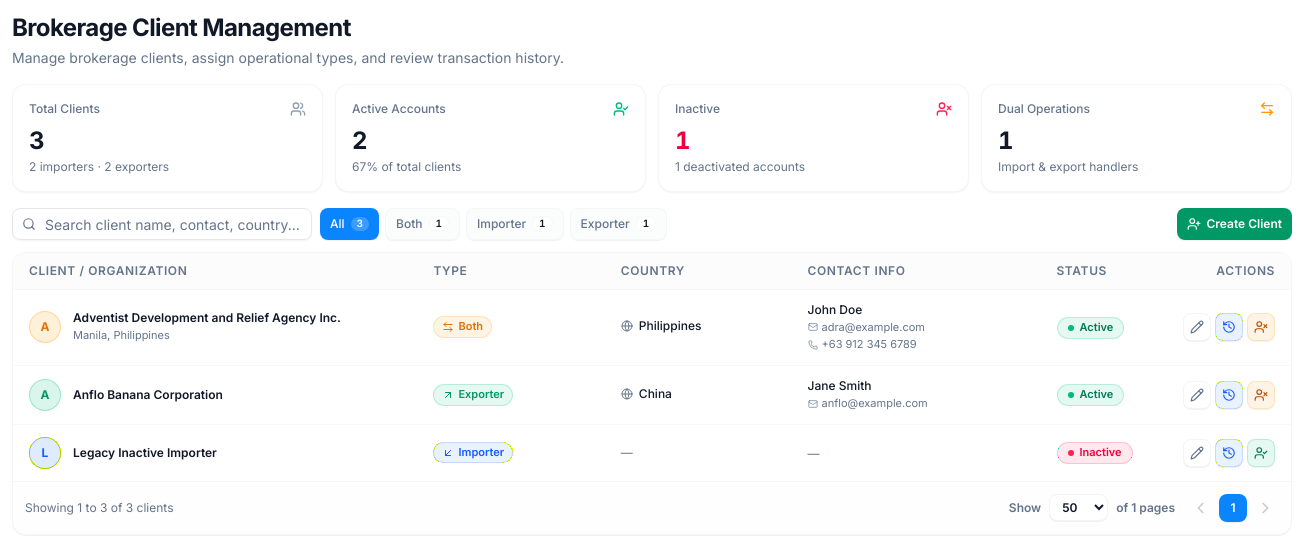
Test: ClientManagement › filters clients by type button
The image size is (1304, 553).
Click the button "Exporter 1": (618, 224) x1=570 y1=208 x2=667 y2=240
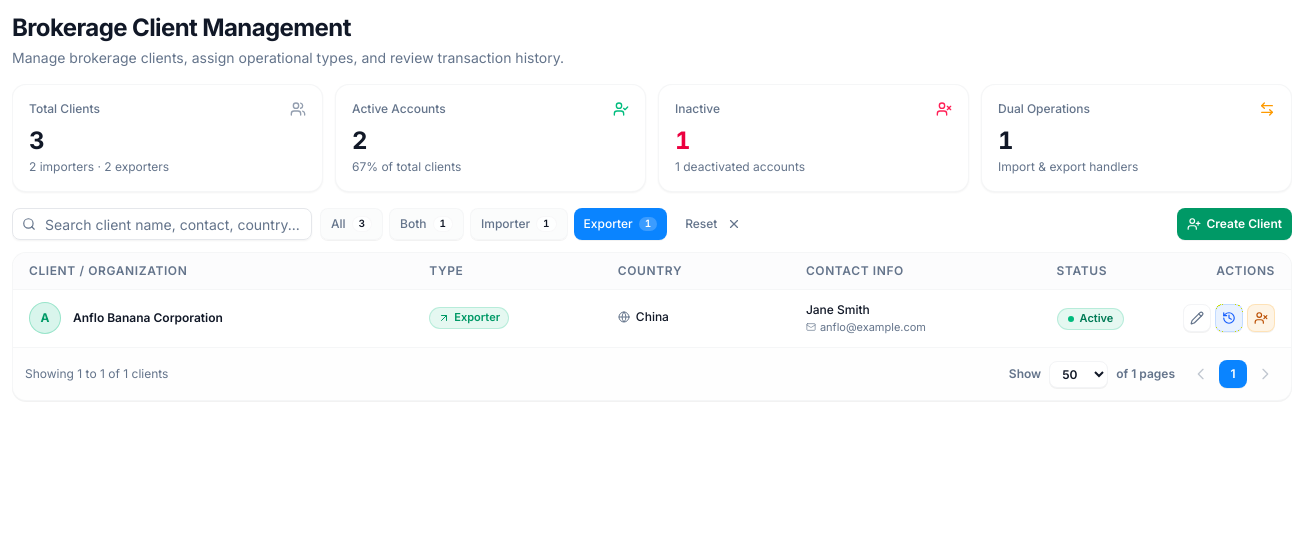
Expected: the text "Anflo Banana Corporation" is shown, x1=73 y1=310 x2=223 y2=326
Result: the text "Adventist Development and Relief Agency Inc." is gone
